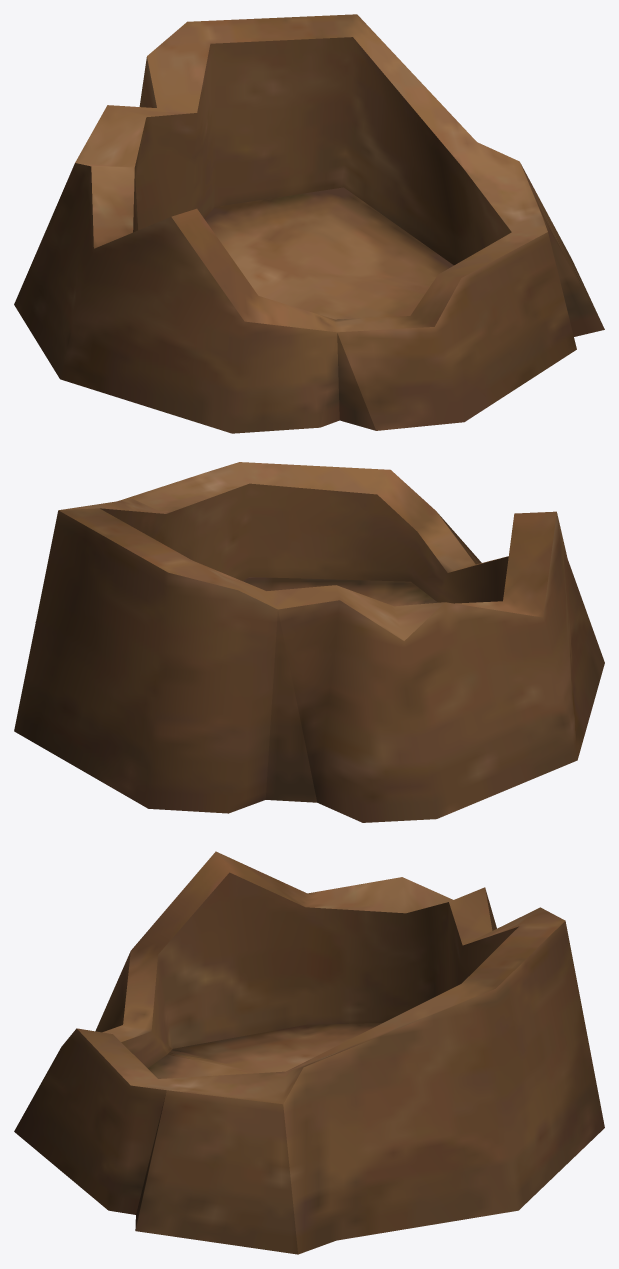
File: crater.obj
3 views of the same model, one above another, from view 1: azimuth 30°, elevation 25°; view 2: azimuth 150°, elevation 25°; view 3: azimuth 270°, elevation 25° (orthographic). The views are drawn at different scales.
Parts seen in each view (by area): view 1: crater; view 2: crater; view 3: crater.
Part boxes in pixels (x1,y1,x2,y2): crater: (14, 14, 604, 433); crater: (14, 462, 604, 822); crater: (14, 851, 604, 1254).
Size of the model in its own units: 0.9767 by 0.3756 by 0.9685.
Materials: 1 (1 with a texture image).
